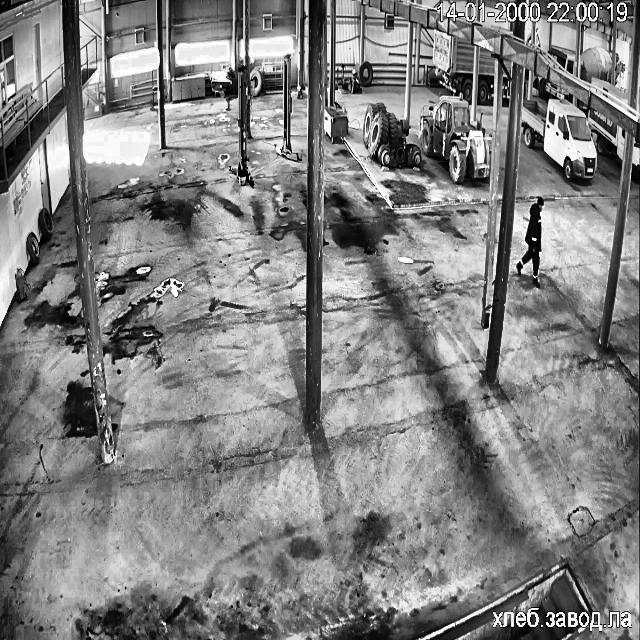class4: (516, 197, 544, 286)
class6: (420, 96, 489, 182), (362, 102, 420, 166)
class7: (521, 100, 596, 180), (432, 28, 473, 100), (588, 108, 624, 160), (580, 46, 611, 83), (477, 46, 494, 102), (536, 77, 572, 100), (592, 80, 628, 103), (549, 45, 574, 73), (632, 140, 640, 180), (503, 60, 511, 99), (616, 60, 622, 76)
tractor: (16, 268, 27, 300)
truck: (230, 67, 253, 186), (275, 54, 298, 161)
